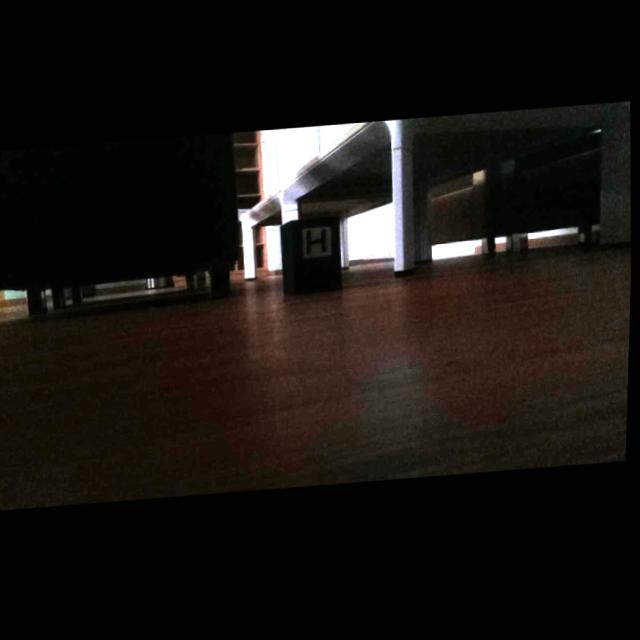H: (309, 232, 328, 257)
